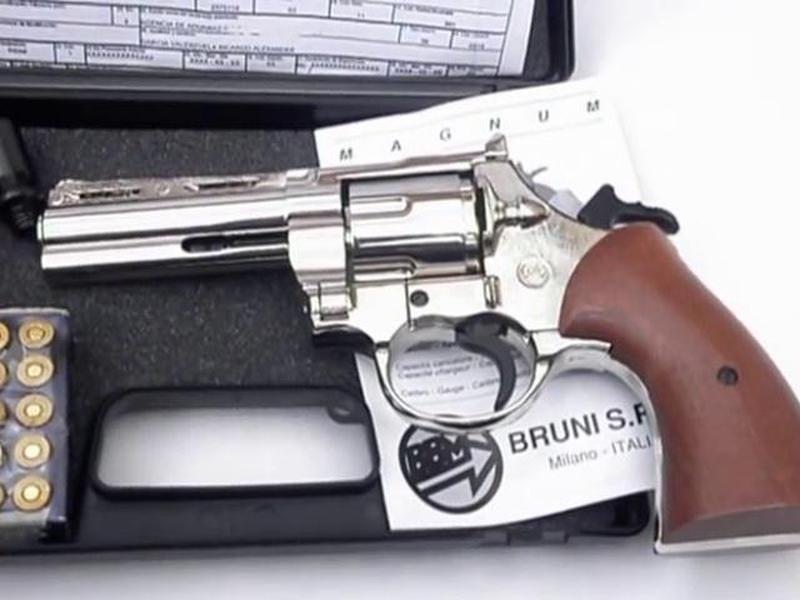Revolver: (42, 138, 800, 448)
